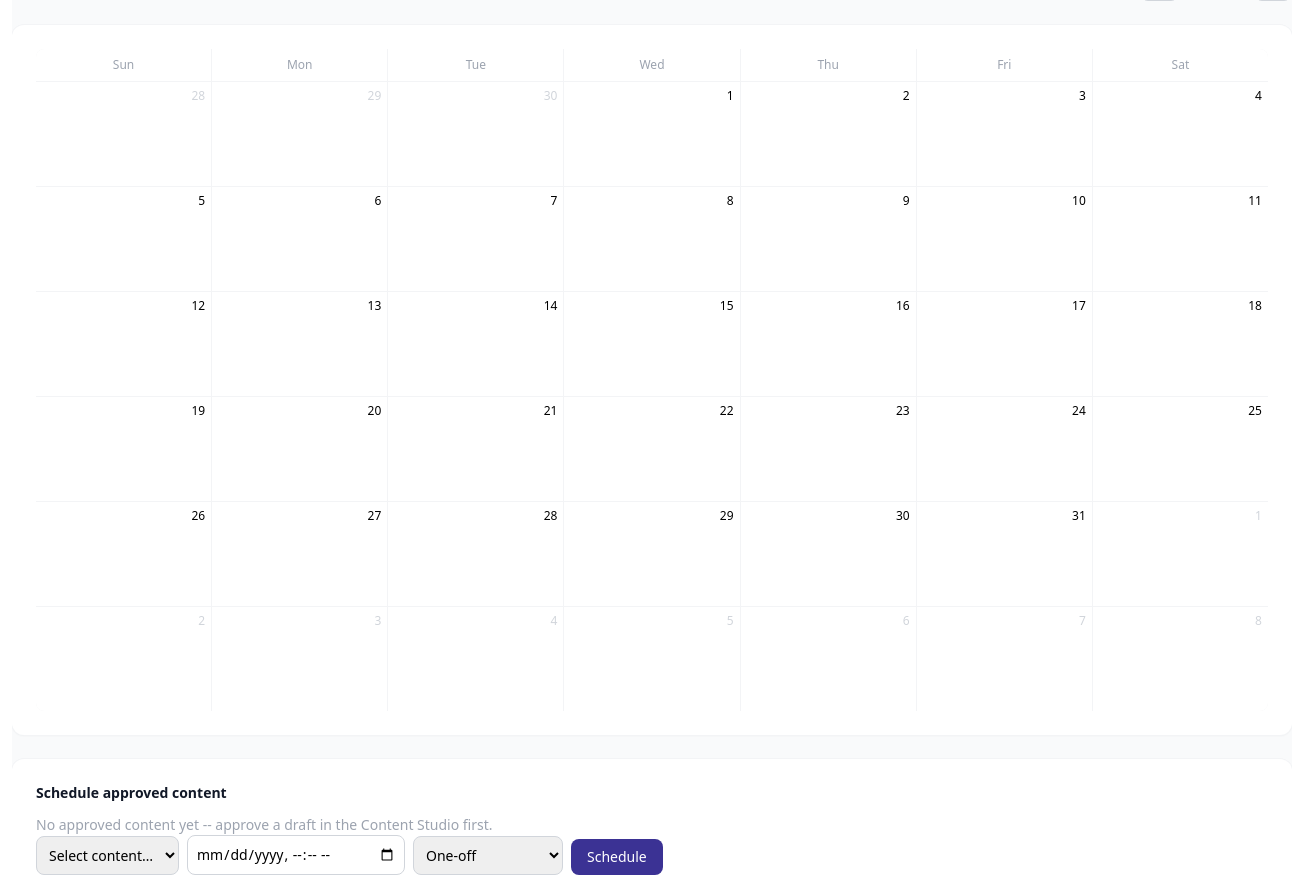
Test: CalendarPage › shows a validation error when scheduling without picking content or a time
(page scrolled)
Click the button "Schedule" at [617, 857], box [571,839,663,875]
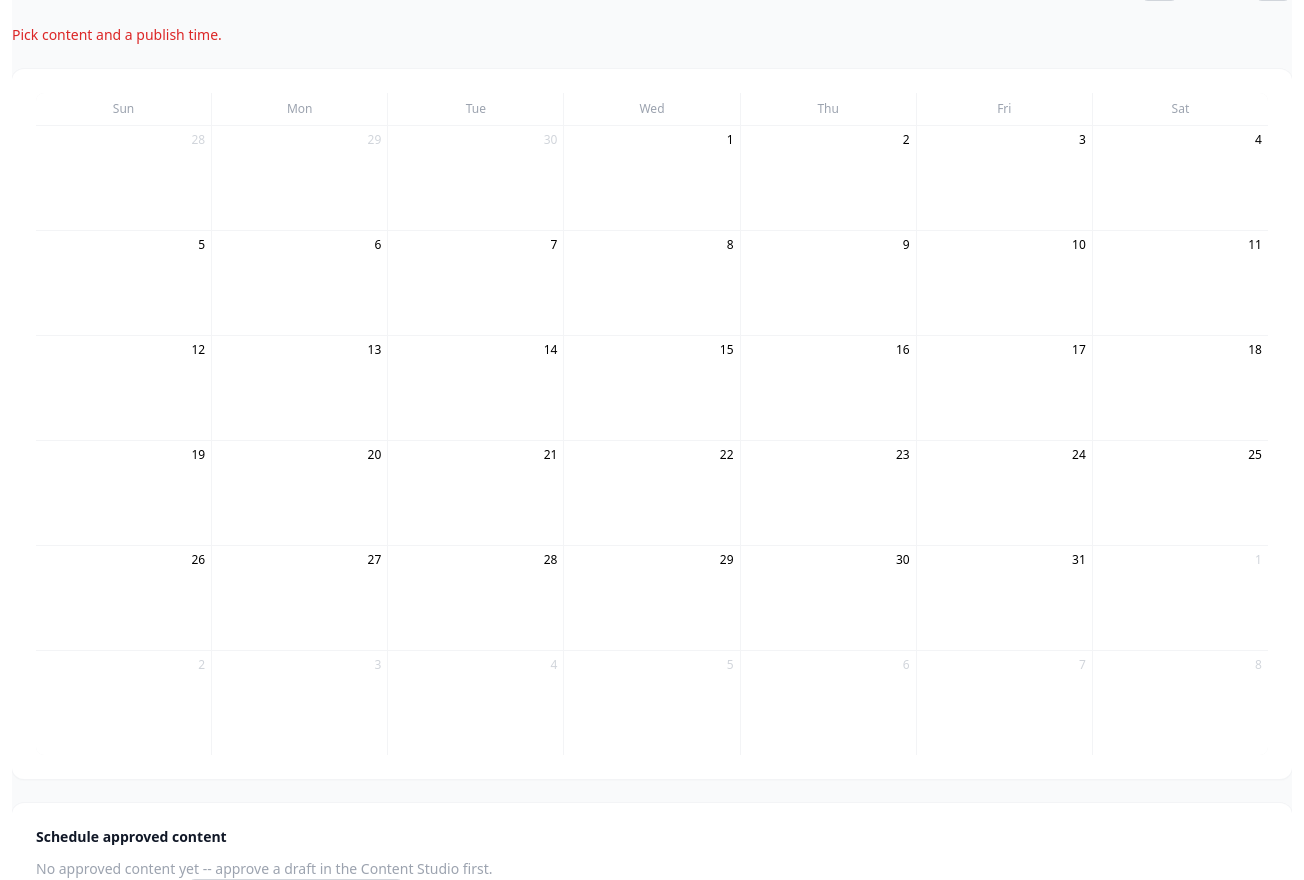
Result: the text "Pick content and a publish time." is shown at [12,25,222,44]
